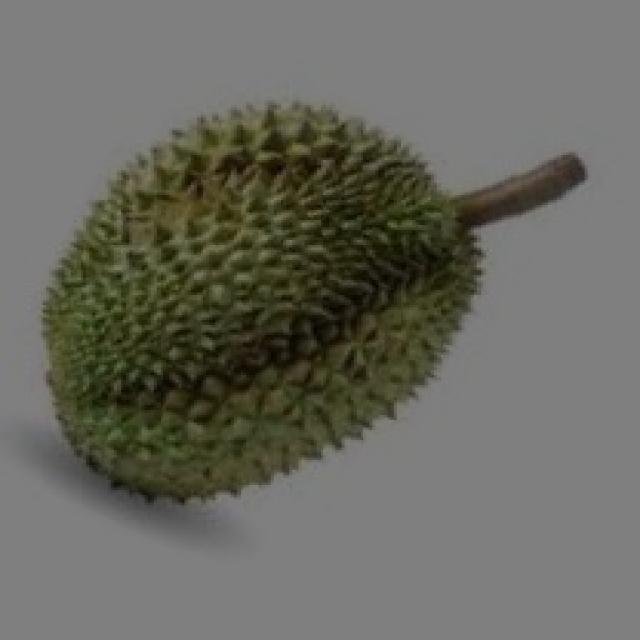fruit: (6, 150, 369, 555)
